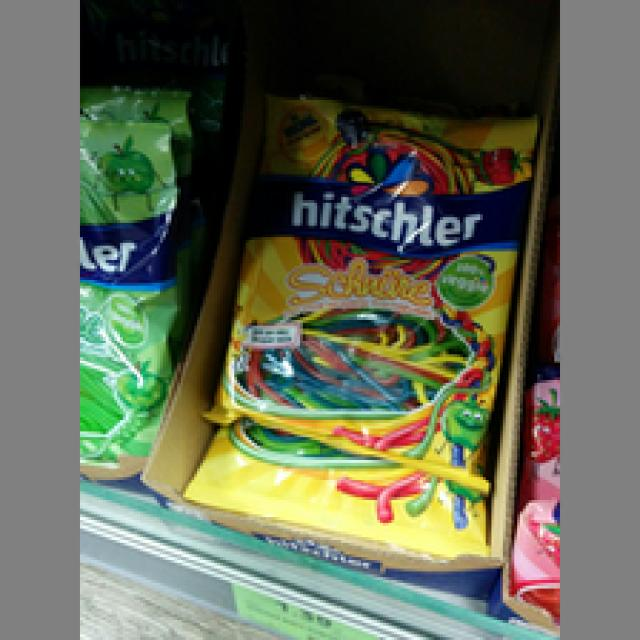groceries: (206, 97, 534, 494), (77, 83, 189, 480)
